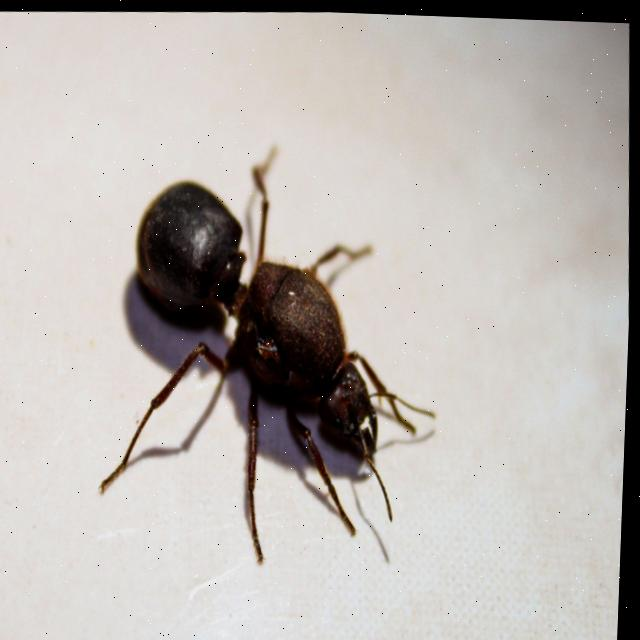Alive-Female-Dealate: (88, 129, 452, 572)
